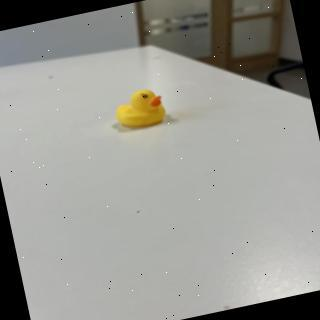duck_regular: (110, 84, 170, 133)
